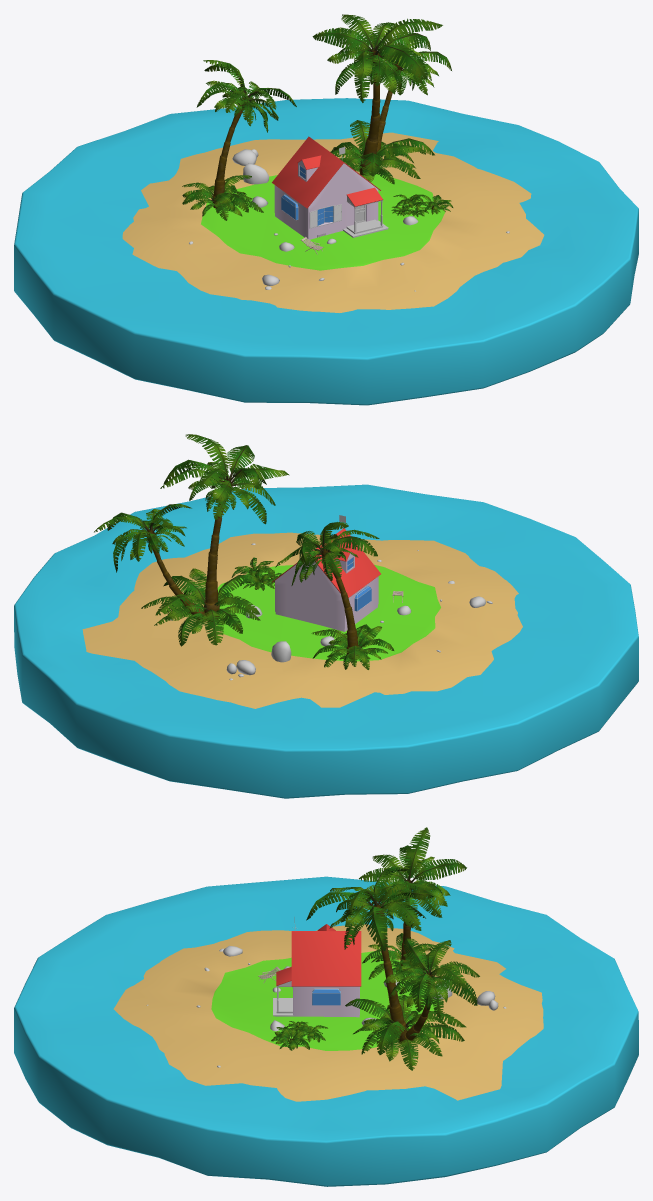
Rendered from kame house_export.fbx.
3 views of the same model, one above another, from view 1: azimuth 30°, elevation 25°; view 2: azimuth 150°, elevation 25°; view 3: azimuth 270°, elevation 25° (orthographic).
Parts seen in each view (by area): view 1: water, island, trunk.001, trunk.005, house, leaf01.005, roof, leaf01.000, trunk.004, rock.001; view 2: water, island, trunk.001, leaf01.005, house, trunk.005, trunk.004, leaf01.000, roof, rock.001; view 3: water, island, trunk.001, trunk.004, trunk.005, roof, leaf01.005, house, leaf01.000, rock.001, leaf01.004, window right.
Part boxes in pixels (x1=…): water: x1=14, y1=98, x2=638, y2=405; island: x1=122, y1=132, x2=544, y2=312; trunk.001: x1=312, y1=14, x2=442, y2=175; trunk.005: x1=196, y1=60, x2=296, y2=208; house: x1=274, y1=163, x2=378, y2=239; leaf01.005: x1=330, y1=120, x2=434, y2=184; roof: x1=272, y1=136, x2=380, y2=208; leaf01.000: x1=182, y1=175, x2=263, y2=220; trunk.004: x1=356, y1=34, x2=451, y2=165; rock.001: x1=189, y1=149, x2=509, y2=291; water: x1=14, y1=484, x2=638, y2=798; island: x1=82, y1=532, x2=522, y2=708; trunk.001: x1=160, y1=434, x2=289, y2=621; leaf01.005: x1=141, y1=568, x2=261, y2=646; house: x1=275, y1=557, x2=378, y2=631; trunk.005: x1=275, y1=522, x2=379, y2=658; trunk.004: x1=94, y1=503, x2=206, y2=621; leaf01.000: x1=311, y1=624, x2=394, y2=669; roof: x1=272, y1=528, x2=380, y2=597; rock.001: x1=170, y1=543, x2=492, y2=680; water: x1=14, y1=876, x2=638, y2=1186; island: x1=113, y1=924, x2=543, y2=1101; trunk.001: x1=306, y1=866, x2=435, y2=1039; trunk.004: x1=383, y1=937, x2=479, y2=1043; trunk.005: x1=359, y1=827, x2=466, y2=969; roof: x1=291, y1=931, x2=361, y2=986; leaf01.005: x1=345, y1=995, x2=466, y2=1070; house: x1=293, y1=986, x2=359, y2=1017; leaf01.000: x1=362, y1=933, x2=438, y2=979; rock.001: x1=146, y1=945, x2=506, y2=1067; leaf01.004: x1=271, y1=1027, x2=313, y2=1050; window right: x1=312, y1=988, x2=340, y2=1005.
Bounding box in the file's own units: 4671 × 1787 × 4666.
